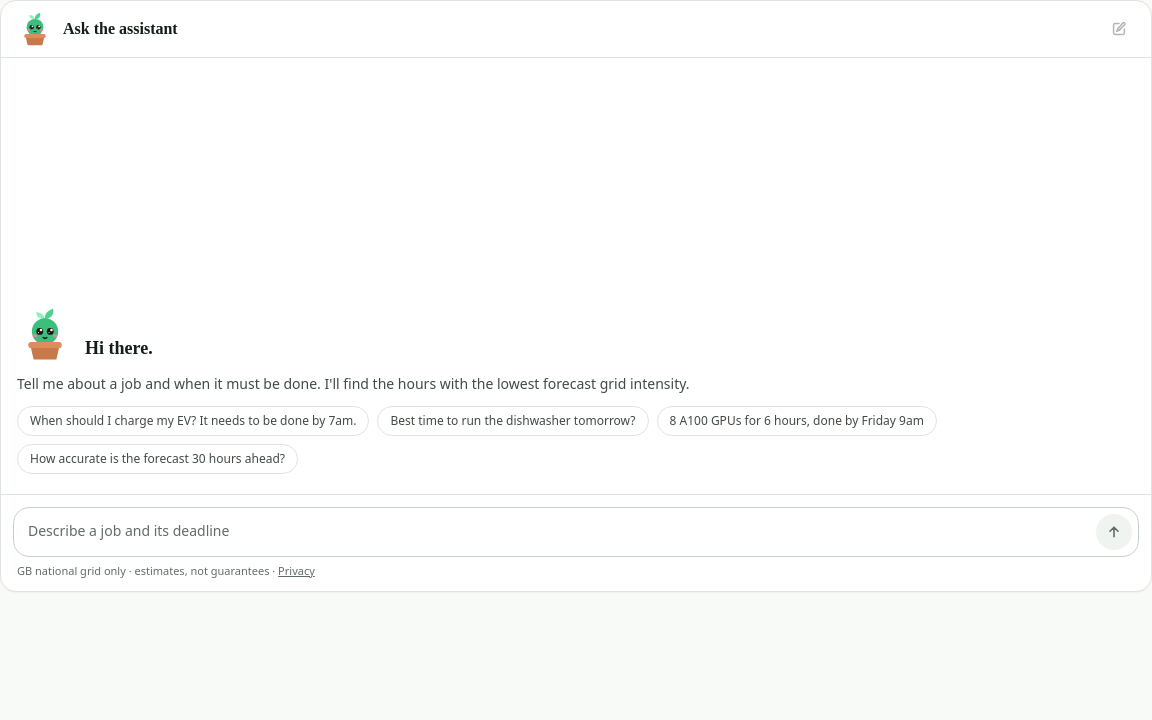
Test case: chat actions › push_needed offers Turn on notifications and runs the opt-in
Type "go" into the text box named "Message to the assistant" at [558, 532], box x1=28 y1=514 x2=1088 y2=550
Then press Enter
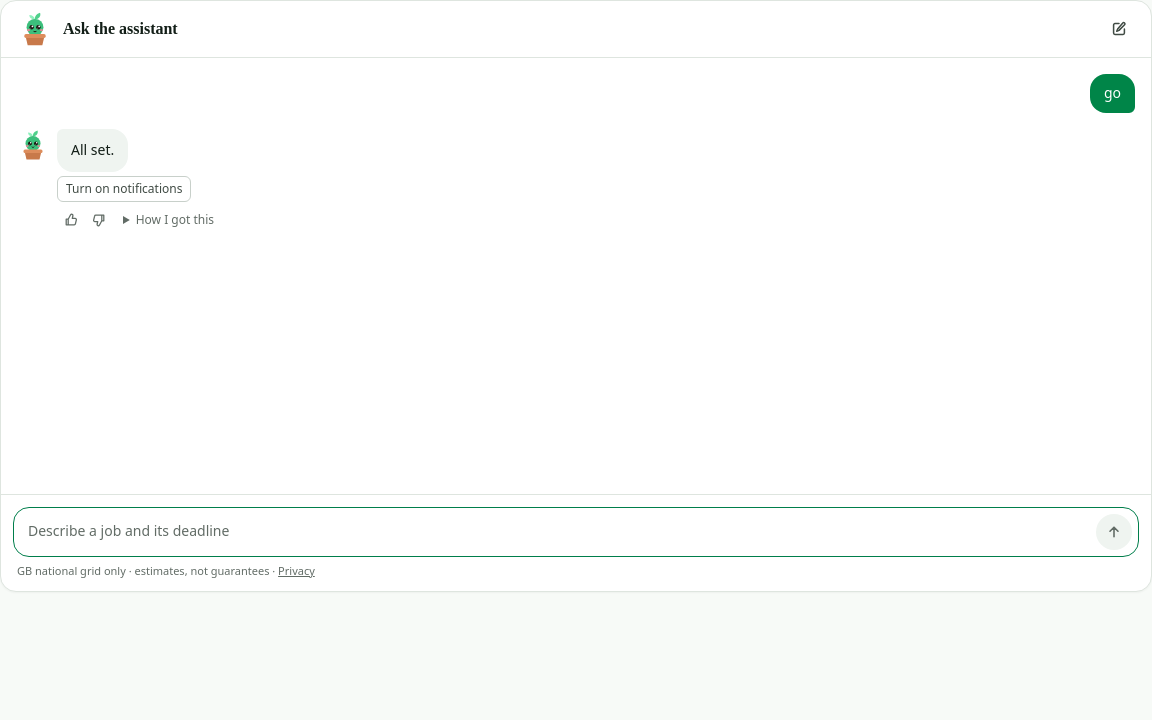
Expected: the text "All set." is shown, x1=71 y1=139 x2=114 y2=162
Click the button "Turn on notifications" at [124, 188], box x1=57 y1=176 x2=192 y2=202
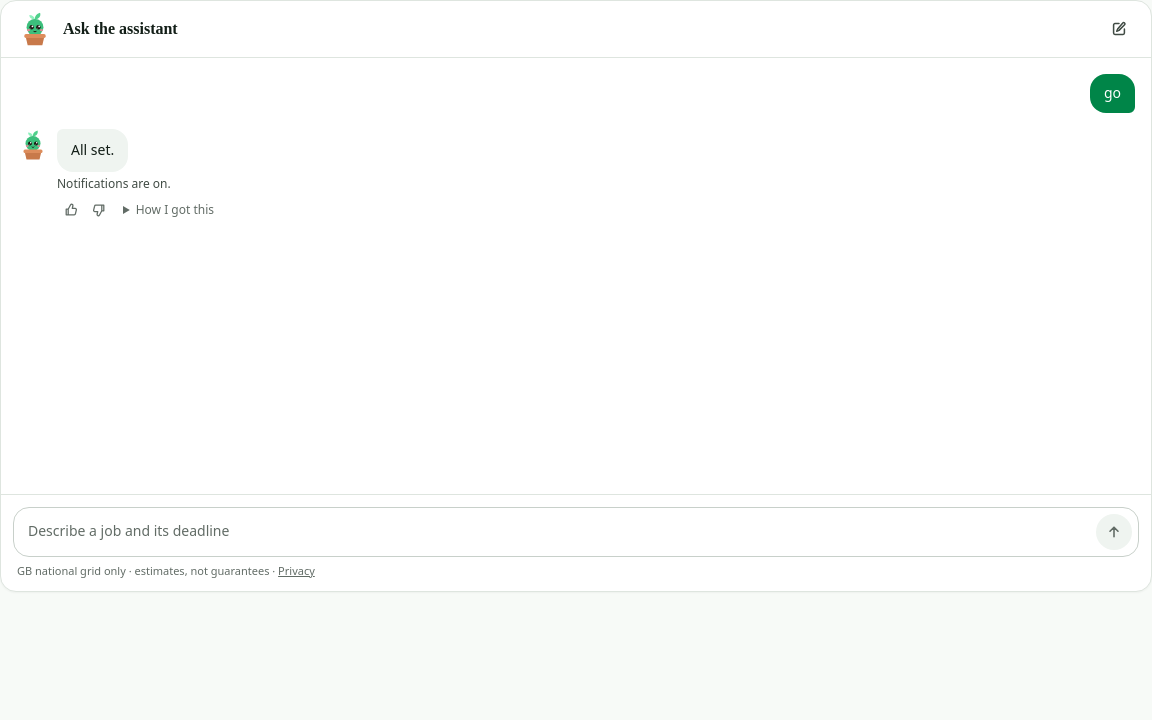
Expected: the text "Notifications are on." is shown, x1=57 y1=176 x2=171 y2=192
